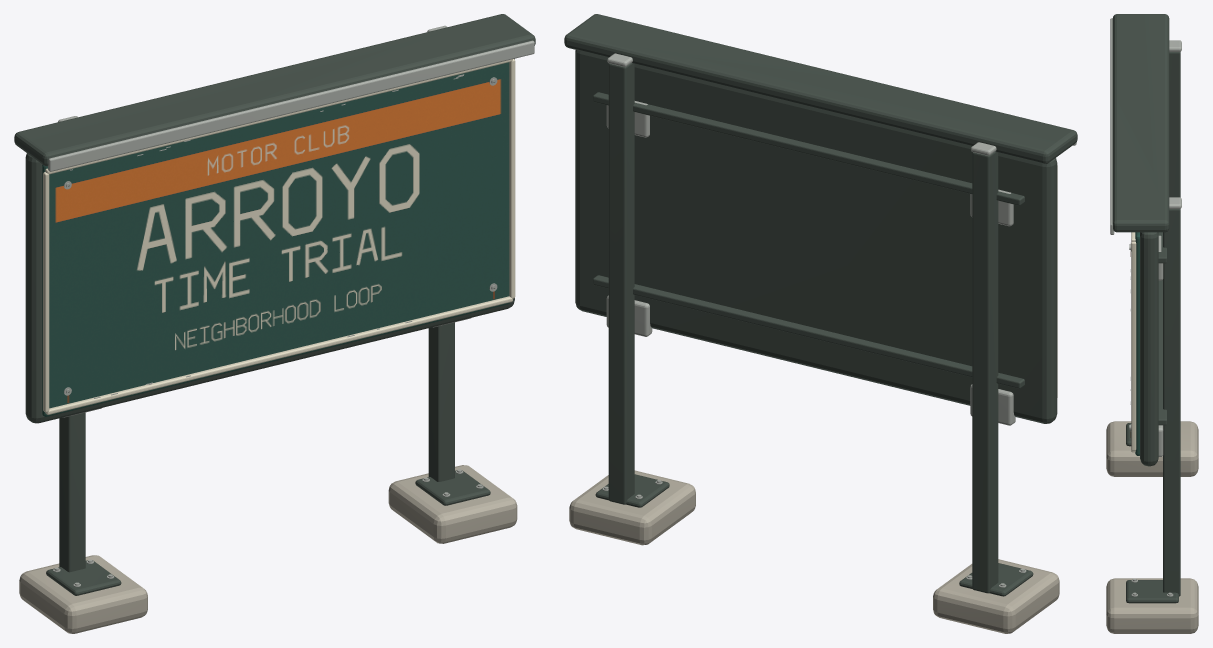
Rendered from activity-board.glb.
The picture shows the model from 3 angles, left to right: view 1: azimuth 30°, elevation 25°; view 2: azimuth 150°, elevation 25°; view 3: azimuth 270°, elevation 25°; orthographic projection. The views are drawn at different scales.
Parts seen in each view (by area): view 1: activity-sign-face, activity-steel, concrete, activity-cream, activity-zinc; view 2: activity-steel, concrete, activity-zinc; view 3: activity-steel, concrete, activity-zinc, activity-cream, activity-sign-face.
Part boxes in pixels (<box>): activity-sign-face: <box>42,62,510,416</box>; activity-steel: <box>14,14,535,595</box>; concrete: <box>19,465,517,633</box>; activity-cream: <box>43,59,515,414</box>; activity-zinc: <box>48,25,534,586</box>; activity-steel: <box>564,14,1077,596</box>; concrete: <box>569,470,1059,633</box>; activity-zinc: <box>602,53,1076,587</box>; activity-steel: <box>1112,14,1180,603</box>; concrete: <box>1106,421,1198,633</box>; activity-zinc: <box>1110,18,1181,596</box>; activity-cream: <box>1131,232,1136,452</box>; activity-sign-face: <box>1135,232,1139,455</box>.
Bounding box in the file's own units: 2.8 × 2.64 × 0.52.
6 materials, 1 textured.
